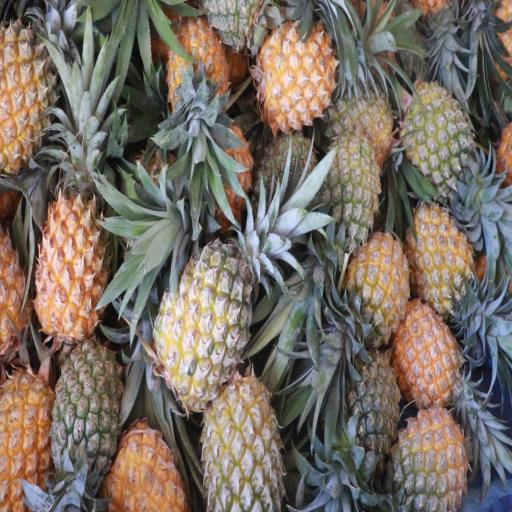------------------------------: (154, 241, 250, 400), (200, 381, 278, 512)
Pineapple - v8 v1: (38, 190, 108, 344), (0, 22, 59, 170), (0, 367, 53, 512), (258, 24, 334, 122), (410, 203, 475, 312), (110, 420, 186, 512), (396, 303, 461, 406), (348, 233, 409, 339), (166, 24, 227, 120)
